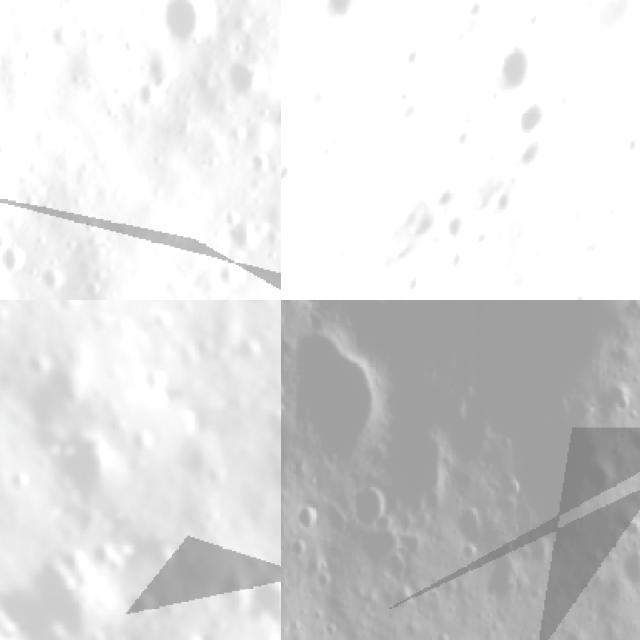crater: (281, 330, 390, 464), (31, 414, 134, 520), (201, 32, 277, 104), (456, 33, 533, 102), (146, 0, 232, 56), (234, 545, 281, 634), (290, 0, 370, 36), (109, 580, 162, 630), (497, 100, 552, 146), (11, 329, 62, 378), (150, 586, 194, 630), (578, 460, 621, 501), (430, 208, 467, 254), (354, 492, 391, 534), (434, 250, 474, 284), (617, 543, 640, 596), (606, 382, 635, 421), (393, 269, 427, 300), (523, 534, 558, 564), (458, 504, 483, 545), (390, 583, 417, 614), (297, 501, 319, 533), (0, 300, 41, 317), (623, 427, 640, 467), (616, 130, 640, 158), (281, 156, 300, 189), (502, 476, 526, 502), (620, 300, 640, 329), (289, 538, 310, 562), (497, 431, 518, 455), (560, 287, 593, 300), (314, 571, 334, 592), (291, 300, 334, 309), (323, 621, 342, 637), (382, 300, 419, 308), (433, 630, 454, 640), (559, 634, 587, 640)
